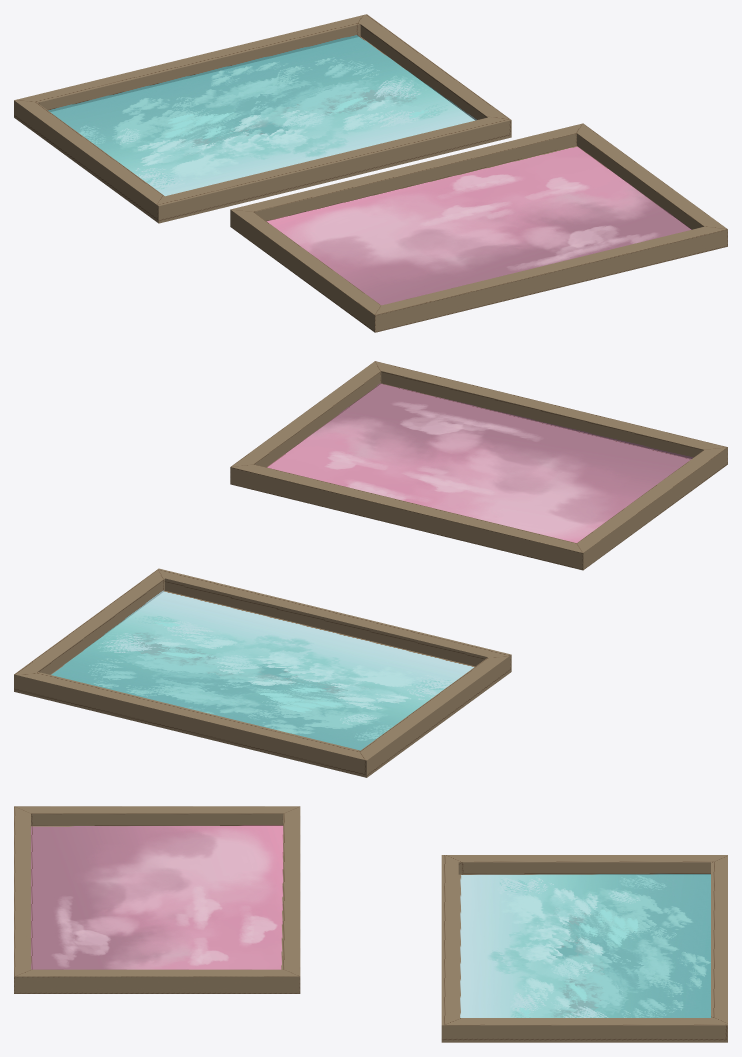
Rendered from cadres.fbx.
3 renders of one model, top to bottom at view 1: azimuth 30°, elevation 25°; view 2: azimuth 150°, elevation 25°; view 3: azimuth 270°, elevation 25°, orthographic.
Visible parts, largest first — view 1: Box001, Box002; view 2: Box001, Box002; view 3: Box001, Box002.
Boxes of the visible parts, box(x1,y1,x2,y2) form: Box001: box(230, 123, 727, 332); Box002: box(14, 14, 511, 223); Box001: box(230, 361, 727, 570); Box002: box(14, 568, 511, 777); Box001: box(14, 806, 300, 993); Box002: box(441, 855, 727, 1042).
Size of the model in its own units: 11.79 by 2.12 by 20.88.
Materials: 2 (2 with a texture image).
